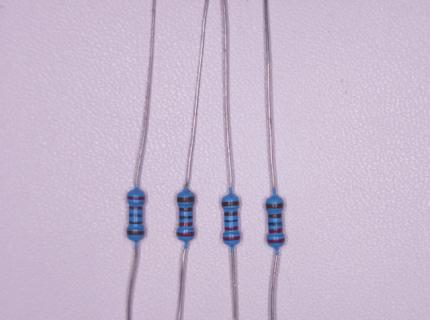Black band: (268, 221, 283, 227), (129, 212, 143, 218), (179, 215, 193, 220), (224, 219, 239, 223)
Brown band: (265, 203, 284, 209), (221, 201, 240, 207), (176, 197, 195, 203), (127, 230, 145, 236), (224, 211, 239, 216), (129, 220, 144, 225), (179, 207, 193, 212), (268, 214, 282, 218)
Red band: (127, 195, 145, 201), (176, 232, 195, 237), (223, 236, 241, 241), (267, 239, 285, 244), (129, 205, 144, 210), (224, 226, 239, 231), (268, 228, 283, 233), (179, 222, 193, 227)
